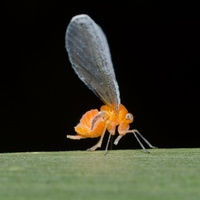insect: (65, 14, 154, 151)
